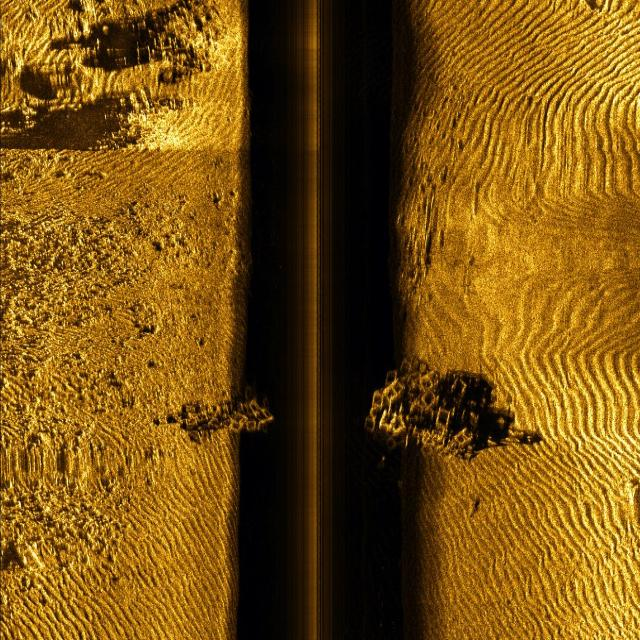artificial reef: (364, 346, 488, 462), (170, 381, 276, 444)
